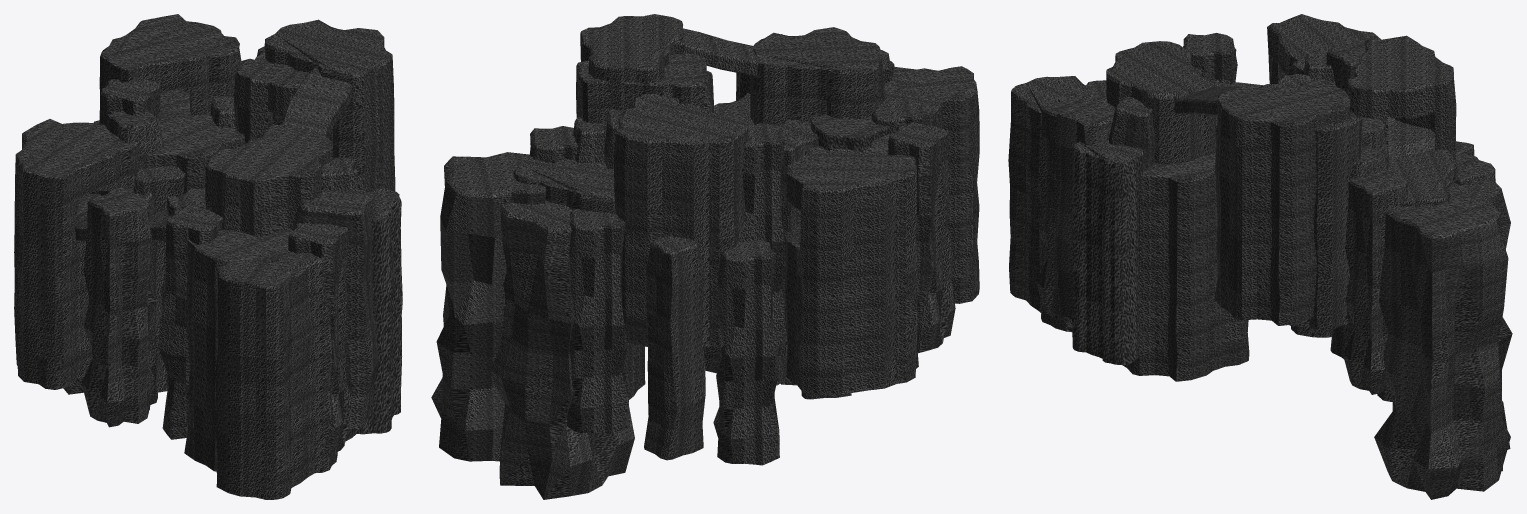
Rendered from Dragonfly_02.fbx.
3 views of the same model, side by side, from view 1: azimuth 30°, elevation 25°; view 2: azimuth 150°, elevation 25°; view 3: azimuth 270°, elevation 25° (orthographic). The views are drawn at different scales.
Visible parts, largest first — view 1: Large_1.008, Large_Cave.002, Small_1.013, Large_1.002, Large_1.003, Large_Cave, Large_1.004, Small_2.006, Large_1.007, Small_1.002, Small_1.011, Large_1 (+10 smaller); view 2: Large_Cave.002, Small_1.010, Large_Cave, Small_1.008, Small_1, Small_2.001, Small_1.009, Large_1.003, Small_1.013, Large_1.008, Large_1.002, Small_1.005 (+12 smaller); view 3: Small_1.008, Large_1.002, Large_1.006, Large_1.007, Large_Cave, Large_1.008, Small_1.007, Large_1.003, Large_Cave.001, Small_2.006, Large_Cave.002, Large_1.001 (+10 smaller).
Part boxes in pixels (x1,y1,x2,y2): Large_1.008: [214, 240, 339, 499]; Large_Cave.002: [14, 119, 139, 389]; Small_1.013: [81, 188, 155, 427]; Large_1.002: [264, 19, 395, 191]; Large_1.003: [205, 125, 333, 236]; Large_Cave: [99, 14, 241, 119]; Large_1.004: [184, 229, 293, 471]; Small_2.006: [292, 189, 379, 428]; Large_1.007: [352, 189, 402, 434]; Small_1.002: [159, 205, 223, 439]; Small_1.011: [288, 223, 352, 454]; Large_1: [144, 111, 245, 194]; Large_Cave.002: [784, 146, 918, 395]; Small_1.010: [490, 200, 634, 499]; Large_Cave: [613, 94, 749, 347]; Small_1.008: [431, 152, 546, 461]; Small_1: [713, 240, 779, 465]; Small_2.001: [644, 236, 705, 460]; Small_1.009: [567, 208, 629, 434]; Large_1.003: [750, 27, 884, 126]; Small_1.013: [888, 122, 955, 353]; Large_1.008: [889, 66, 979, 303]; Large_1.002: [580, 14, 684, 110]; Small_1.005: [739, 123, 787, 349]; Small_1.008: [1374, 187, 1512, 499]; Large_1.002: [1214, 78, 1350, 325]; Large_1.006: [1122, 152, 1249, 381]; Large_1.007: [1072, 141, 1143, 364]; Large_Cave: [1348, 35, 1456, 159]; Large_1.008: [1008, 76, 1085, 332]; Small_1.007: [1343, 169, 1407, 394]; Large_1.003: [1106, 41, 1216, 163]; Large_Cave.001: [1258, 74, 1362, 329]; Small_2.006: [1051, 95, 1115, 319]; Large_Cave.002: [1267, 14, 1380, 83]; Large_1.001: [1377, 149, 1458, 402].
Bounding box in the file's own units: 63.44 × 54.48 × 68.92.
